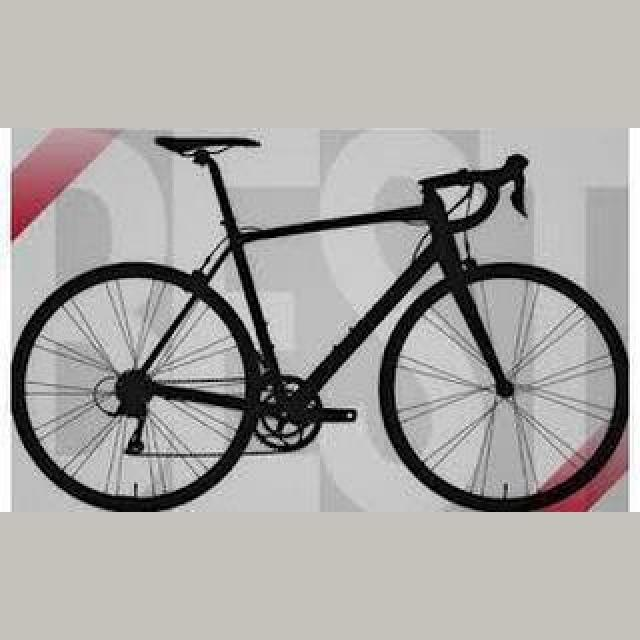Person: (11, 136, 631, 512)
